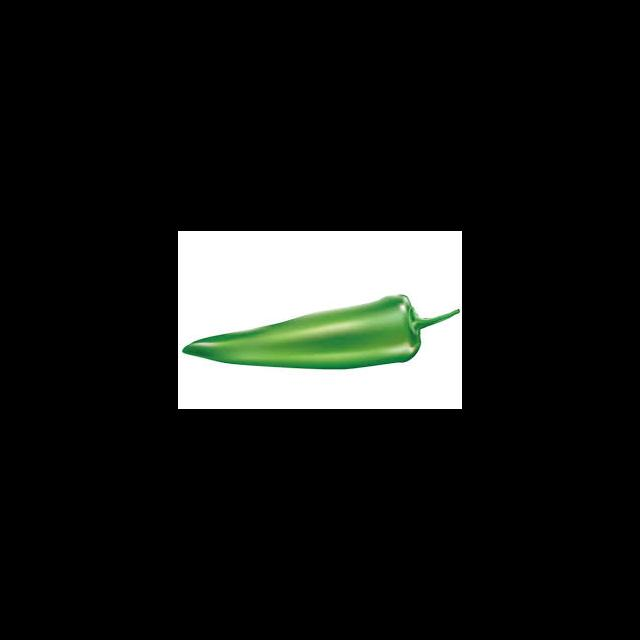chili_pepper: (183, 299, 424, 372)
